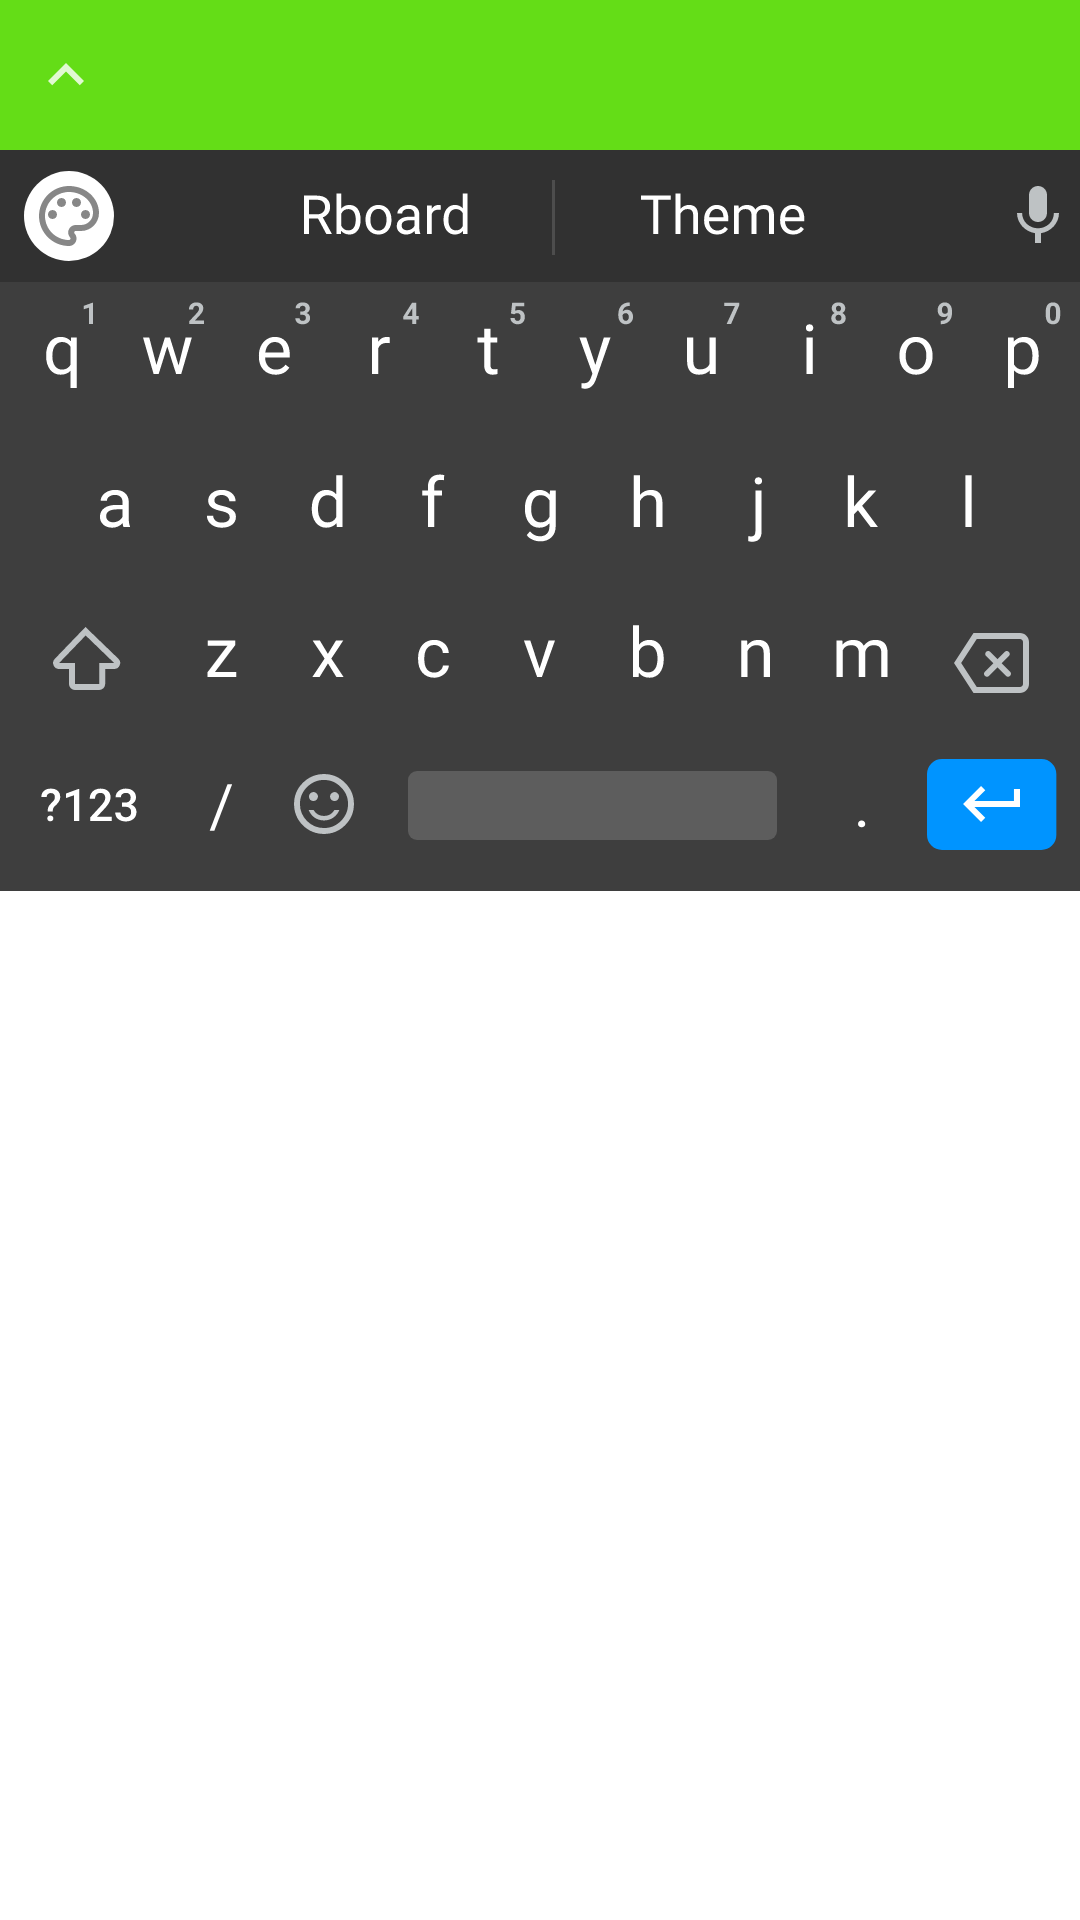

Locate icon controls on the screen. Image size 1080px x 1920px, boxes as (x1, y1, x2, y2).
arrow up: (48, 63, 84, 85)
